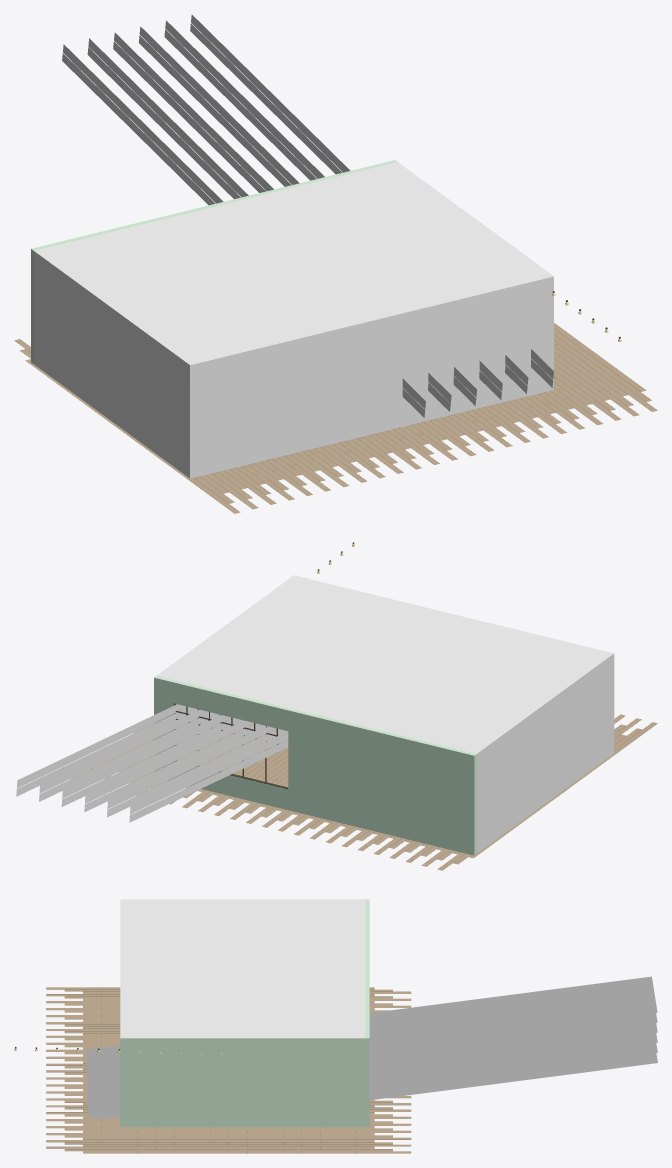
File: house.gltf
3 views of the same model, one above another, from view 1: azimuth 30°, elevation 25°; view 2: azimuth 150°, elevation 25°; view 3: azimuth 270°, elevation 25° (orthographic). The views are drawn at different scales.
Parts seen in each view (by area): view 1: house_ceiling, god_rays_top, floor, house_walls; view 2: house_ceiling, house_walls, god_rays_top, floor, house_window_structure; view 3: house_ceiling, god_rays_bottom, house_walls, floor.
Part boxes in pixels (<box>): house_ceiling: <box>34,162,553,478</box>; god_rays_top: <box>62,14,553,417</box>; floor: <box>14,323,657,513</box>; house_walls: <box>31,160,397,363</box>; house_ceiling: <box>156,575,614,853</box>; house_walls: <box>154,676,476,855</box>; god_rays_top: <box>16,704,288,822</box>; floor: <box>71,714,657,870</box>; house_window_structure: <box>174,703,288,789</box>; house_ceiling: <box>120,899,365,1038</box>; god_rays_bottom: <box>86,976,657,1118</box>; house_walls: <box>120,899,369,1127</box>; floor: <box>46,987,411,1153</box>.
Bounding box in the file's own units: 96.86 × 33.68 × 158.
